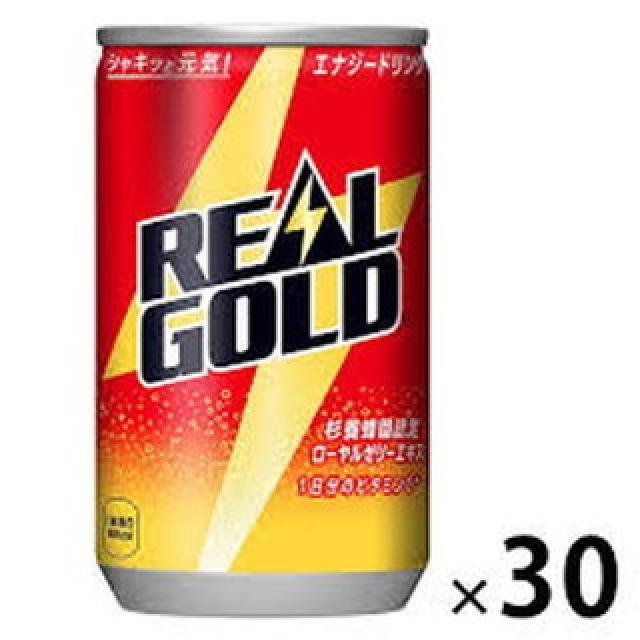can: (93, 26, 430, 622)
